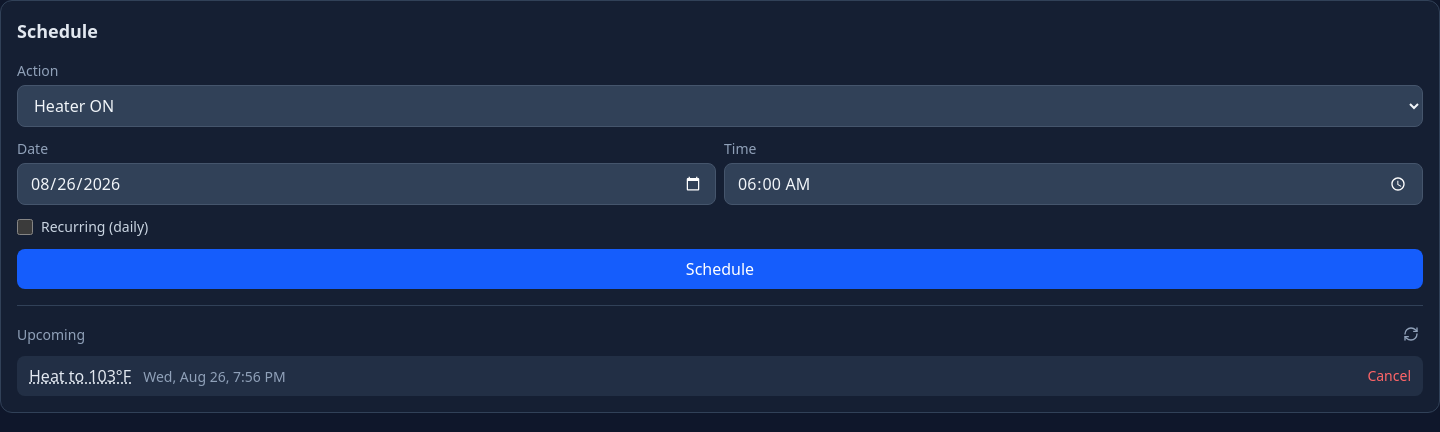
SchedulePanel inline temperature editing › enters edit mode on click
What coordinates should you click on to do the following:
click the button with test id "editable-temp"
I would click on:
 (80, 376)
Its box is top-left (29, 364), bottom-right (131, 388).
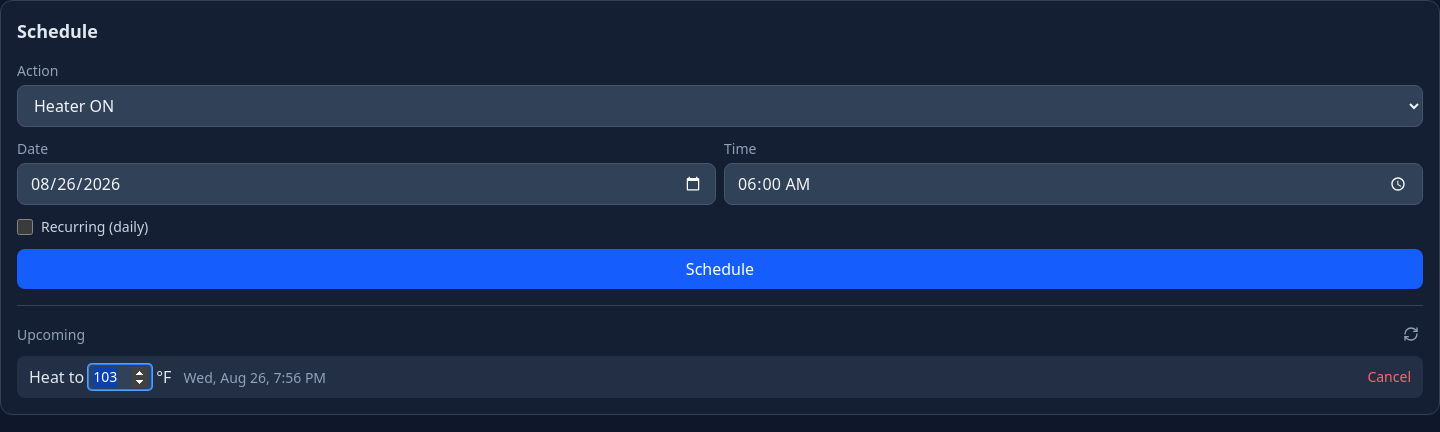
Now the number field with test id "edit-temp-input" holds "103", box top-left (88, 364), bottom-right (152, 390)
